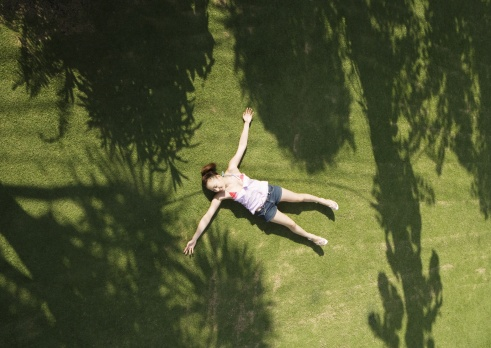deitado: (178, 117, 353, 285)
